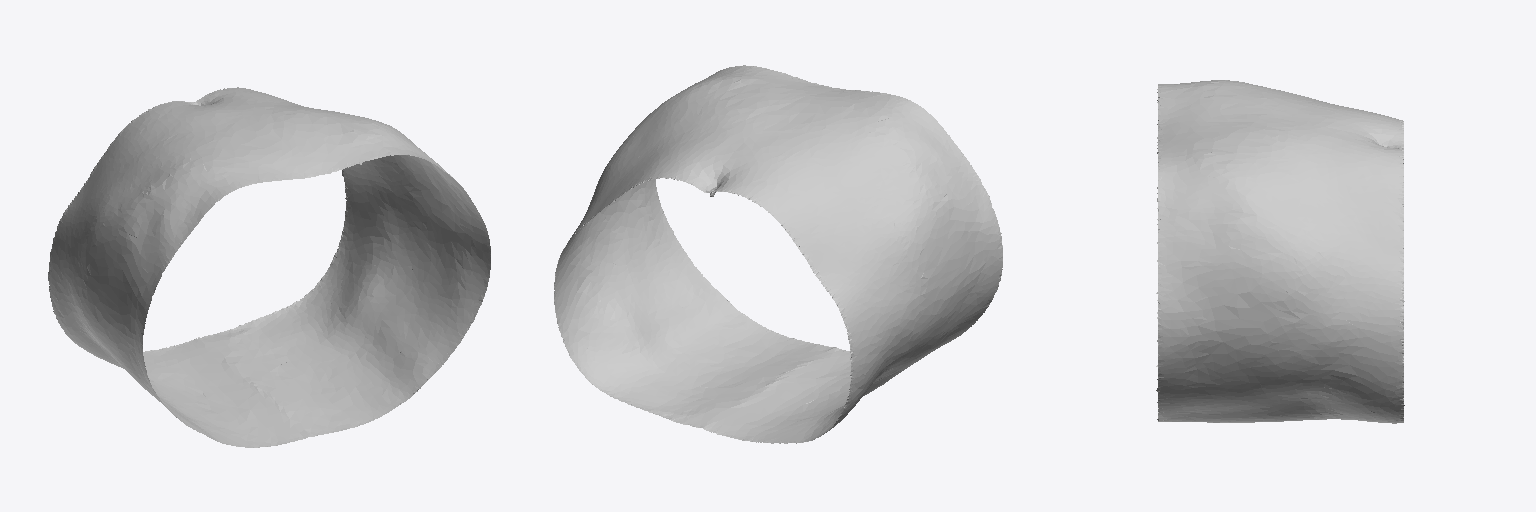
File: skin.obj
3 renders of one model, left to right at view 1: azimuth 30°, elevation 25°; view 2: azimuth 150°, elevation 25°; view 3: azimuth 270°, elevation 25°, orthographic.
Parts seen in each view (by area): view 1: skin; view 2: skin; view 3: skin.
Boxes of the visible parts, <box> form: skin: <box>48,87,490,447</box>; skin: <box>554,65,1002,443</box>; skin: <box>1156,80,1404,423</box>.
Size of the model in its own units: 339 by 254 by 211.